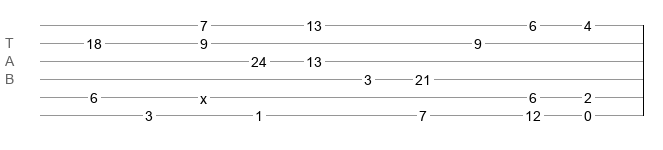0: (584, 108, 592, 118)
1: (255, 108, 263, 118)
12: (525, 108, 541, 118)
13: (306, 54, 322, 64), (306, 18, 322, 28)
18: (86, 36, 102, 46)
2: (584, 90, 592, 100)
21: (415, 72, 431, 82)
24: (251, 54, 267, 64)
3: (145, 108, 153, 118), (364, 72, 372, 82)
4: (584, 18, 592, 28)
6: (90, 90, 98, 100), (529, 18, 537, 28), (529, 90, 537, 100)
7: (200, 18, 208, 28), (419, 108, 427, 118)
9: (200, 36, 208, 46), (474, 36, 482, 46)
x: (200, 91, 207, 99)
